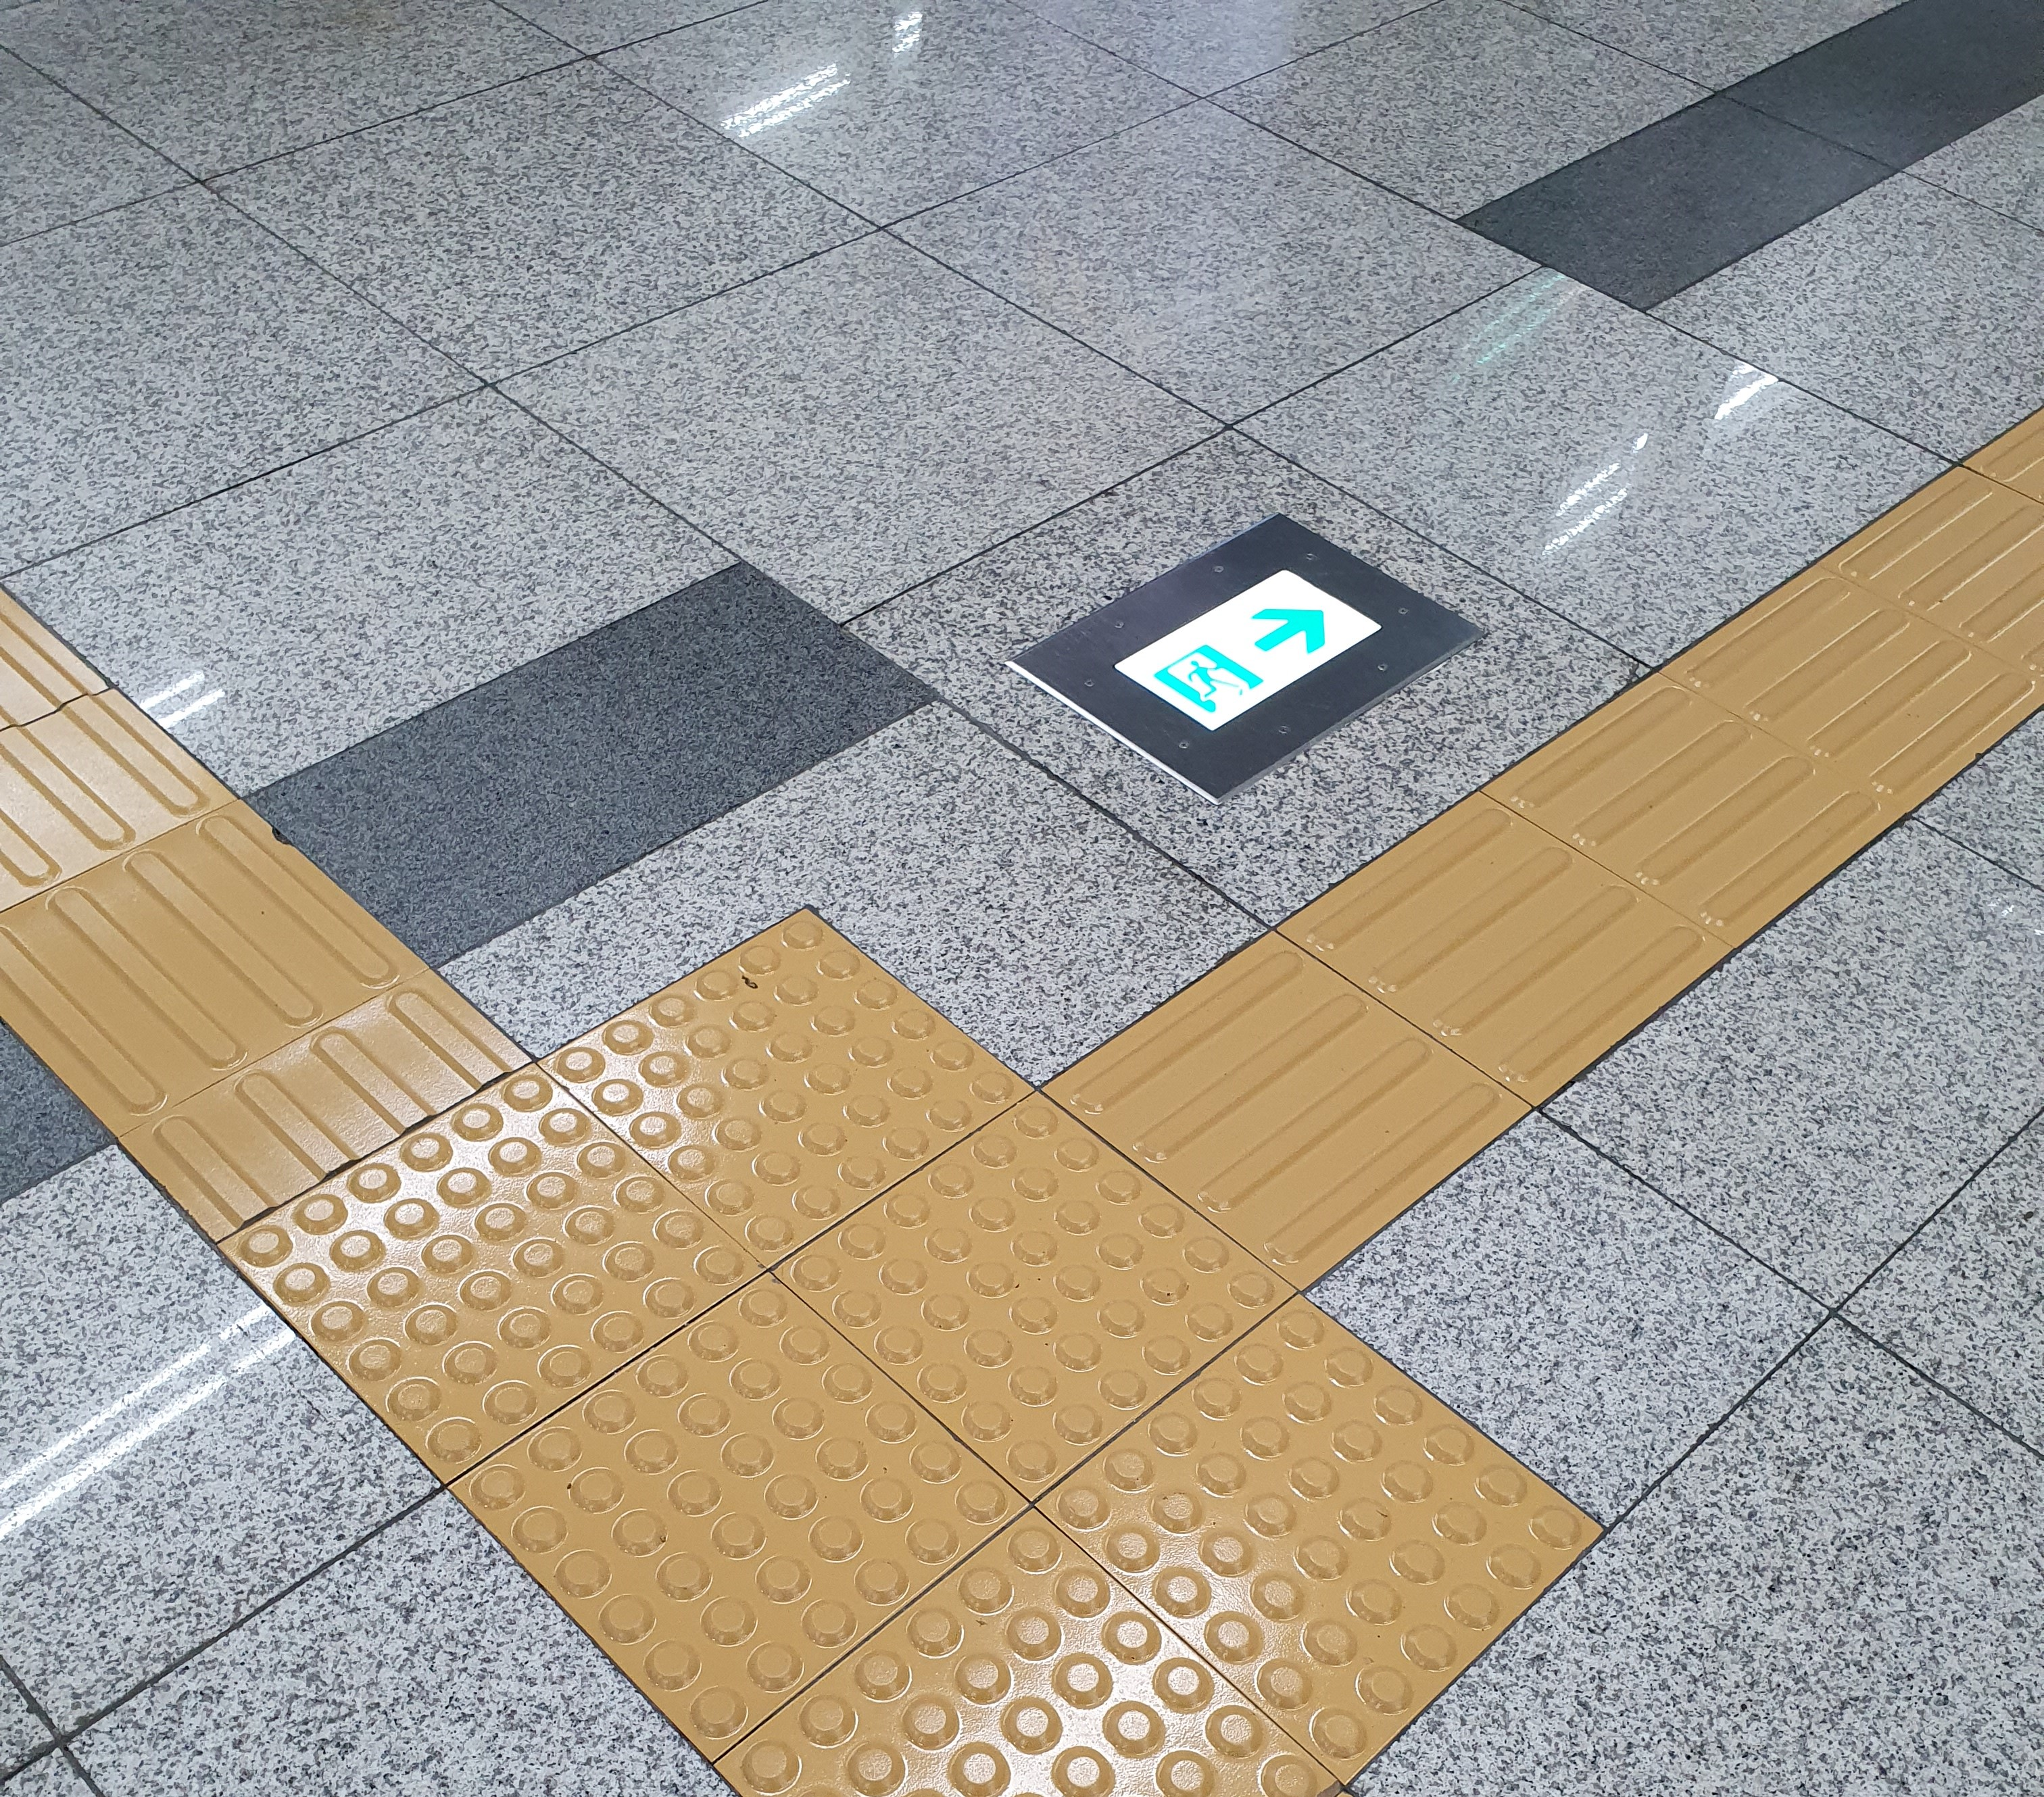guideBlock: (71, 881, 421, 1163), (1145, 968, 1422, 1227), (1755, 593, 2028, 841), (1363, 813, 1615, 1041), (2, 633, 207, 898), (1613, 695, 1782, 968), (1912, 499, 2044, 652)
warningBlock: (514, 1317, 977, 1688), (1156, 1357, 1573, 1714), (231, 1131, 721, 1422), (862, 1543, 1286, 1797), (605, 952, 965, 1251), (881, 1144, 1205, 1423)
